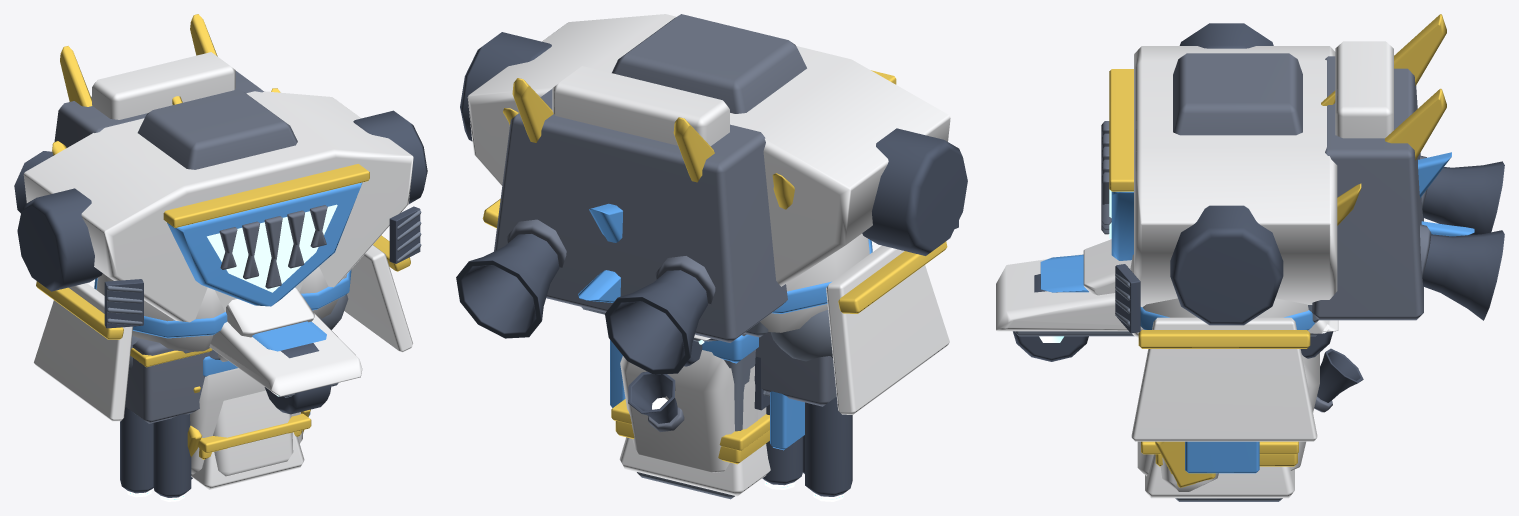
Rendered from rampart.glb.
3 views of the same model, side by side, from view 1: azimuth 30°, elevation 25°; view 2: azimuth 150°, elevation 25°; view 3: azimuth 270°, elevation 25° (orthographic). The views are drawn at different scales.
Visible parts, largest first — view 1: chest/P, chest/F, chest/D, hips/P, kneeL/P, chest/S, ankleL/P, chest/T, elR/D, elR/F, chest/G, hipL/P (+11 smaller); view 2: chest/F, chest/P, chest/D, hips/P, kneeL/P, elR/D, elR/F, chest/T, shR/P, hips/T, hips/K, wingL/S (+10 smaller); view 3: chest/P, chest/F, chest/D, hips/P, chest/T, ankleL/P, kneeL/P, hips/T, hipL/S, ankleL/D, elL/T, ankleL/S (+7 smaller).
Boxes of the visible parts, x1,y1,x2,y2 form: chest/P: (23,52,413,322); chest/F: (52,71,327,288); chest/D: (14,110,427,328); hips/P: (34,245,412,421); kneeL/P: (191,287,314,489); chest/S: (167,182,362,306); ankleL/P: (209,312,362,396); chest/T: (60,14,369,227); elR/D: (120,406,192,497); elR/F: (125,338,209,423); chest/G: (207,204,337,292); hipL/P: (190,369,303,474); chest/F: (494,14,806,342); chest/P: (467,14,950,286); chest/D: (456,32,967,374); hips/P: (826,245,949,414); kneeL/P: (619,350,770,496); elR/D: (762,397,852,496); elR/F: (755,332,836,406); chest/T: (512,70,896,182); shR/P: (760,233,869,332); hips/T: (482,199,947,313); hips/K: (581,307,832,361); wingL/S: (578,203,622,302); chest/P: (1134,41,1393,307); chest/F: (1101,53,1431,320); chest/D: (1115,23,1504,333); hips/P: (1131,317,1317,441); chest/T: (1109,14,1446,191); ankleL/P: (996,254,1338,333); kneeL/P: (1083,239,1319,498); hips/T: (1138,330,1310,348); hipL/S: (1185,441,1259,473); ankleL/D: (1013,274,1333,361); elL/T: (1155,441,1297,487); ankleL/S: (1040,254,1088,292).
Size of the model in its own units: 4.42 by 4.23 by 4.5.
